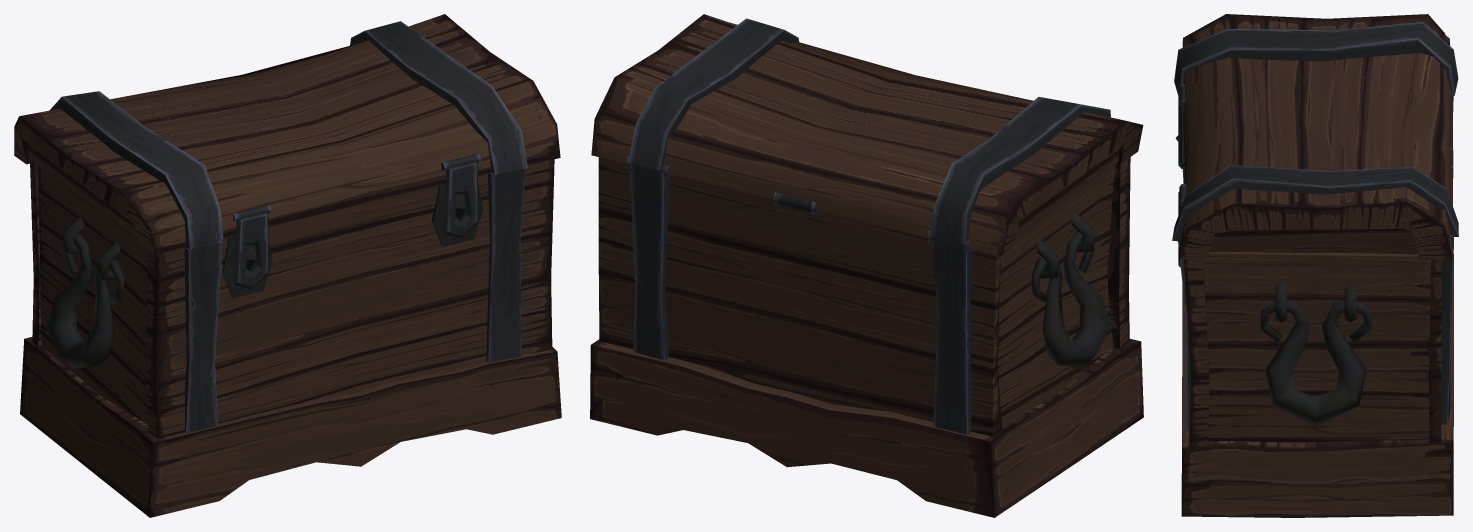
The model's file is SM_PROP_chest_battle_01.fbx.
The picture shows the model from 3 angles, left to right: view 1: azimuth 30°, elevation 25°; view 2: azimuth 150°, elevation 25°; view 3: azimuth 270°, elevation 25°; orthographic projection. The views are drawn at different scales.
Parts seen in each view (by area): view 1: SM_PROP_chest_battle_01, SM_PROP_chest_top_battle_01; view 2: SM_PROP_chest_battle_01, SM_PROP_chest_top_battle_01; view 3: SM_PROP_chest_battle_01, SM_PROP_chest_top_battle_01.
Part boxes in pixels (x1,y1,x2,y2): SM_PROP_chest_battle_01: [20, 159, 561, 517]; SM_PROP_chest_top_battle_01: [14, 14, 560, 288]; SM_PROP_chest_battle_01: [590, 156, 1143, 517]; SM_PROP_chest_top_battle_01: [591, 14, 1143, 255]; SM_PROP_chest_battle_01: [1175, 93, 1453, 517]; SM_PROP_chest_top_battle_01: [1172, 14, 1458, 267].
Bounding box in the file's own units: 127 × 85.77 × 70.44.
